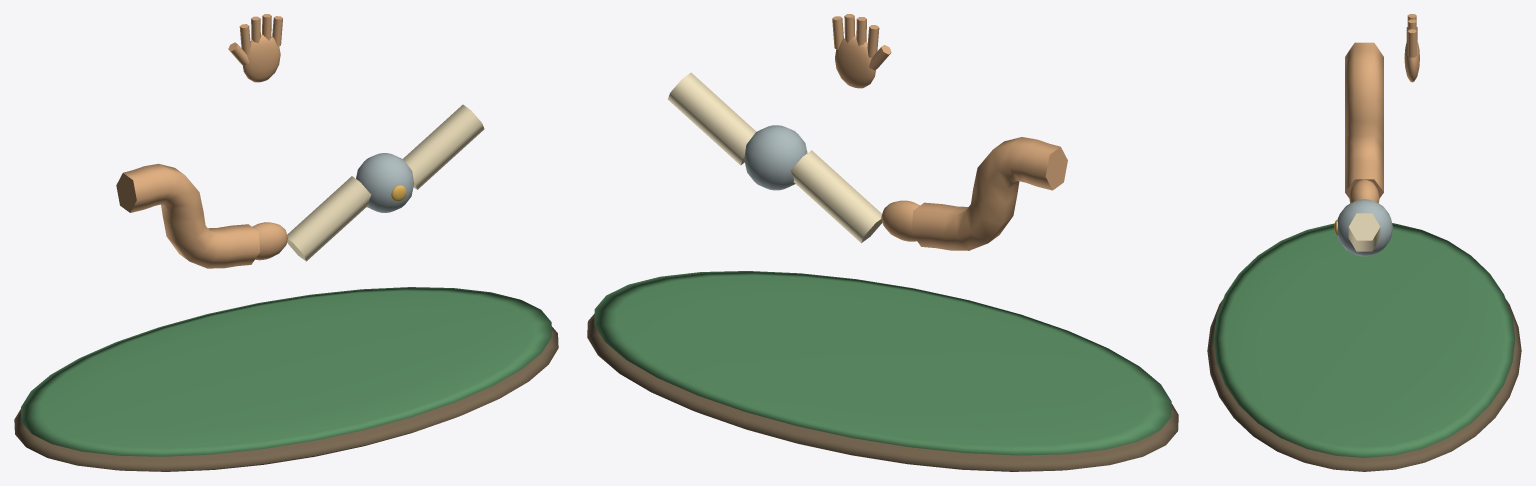
Rendered from complete-third-arm-and-shoulder.glb.
3 renders of one model, left to right at view 1: azimuth 30°, elevation 25°; view 2: azimuth 150°, elevation 25°; view 3: azimuth 270°, elevation 25°, orthographic. The views are drawn at different scales.
Visible parts, largest first — view 1: complete-third-arm-and-shoulder_surface_01, complete-third-arm-and-shoulder_surface_02, complete-third-arm-and-shoulder_surface_00, complete-third-arm-and-shoulder_surface_03, complete-third-arm-and-shoulder_surface_04; view 2: complete-third-arm-and-shoulder_surface_01, complete-third-arm-and-shoulder_surface_02, complete-third-arm-and-shoulder_surface_00, complete-third-arm-and-shoulder_surface_03, complete-third-arm-and-shoulder_surface_04; view 3: complete-third-arm-and-shoulder_surface_01, complete-third-arm-and-shoulder_surface_02, complete-third-arm-and-shoulder_surface_00, complete-third-arm-and-shoulder_surface_04, complete-third-arm-and-shoulder_surface_03.
Part boxes in pixels (<box>): complete-third-arm-and-shoulder_surface_01: <box>21,287,551,456</box>; complete-third-arm-and-shoulder_surface_02: <box>116,14,287,268</box>; complete-third-arm-and-shoulder_surface_00: <box>14,327,558,471</box>; complete-third-arm-and-shoulder_surface_03: <box>287,104,484,261</box>; complete-third-arm-and-shoulder_surface_04: <box>356,153,414,212</box>; complete-third-arm-and-shoulder_surface_01: <box>594,271,1171,455</box>; complete-third-arm-and-shoulder_surface_02: <box>832,14,1067,250</box>; complete-third-arm-and-shoulder_surface_00: <box>587,313,1178,471</box>; complete-third-arm-and-shoulder_surface_03: <box>667,72,882,243</box>; complete-third-arm-and-shoulder_surface_04: <box>744,125,807,190</box>; complete-third-arm-and-shoulder_surface_01: <box>1213,223,1515,457</box>; complete-third-arm-and-shoulder_surface_02: <box>1345,14,1419,203</box>; complete-third-arm-and-shoulder_surface_00: <box>1207,299,1521,471</box>; complete-third-arm-and-shoulder_surface_04: <box>1337,199,1392,256</box>; complete-third-arm-and-shoulder_surface_03: <box>1348,213,1380,251</box>.
Bounding box in the file's own units: 4.56 × 3.05 × 2.5.
